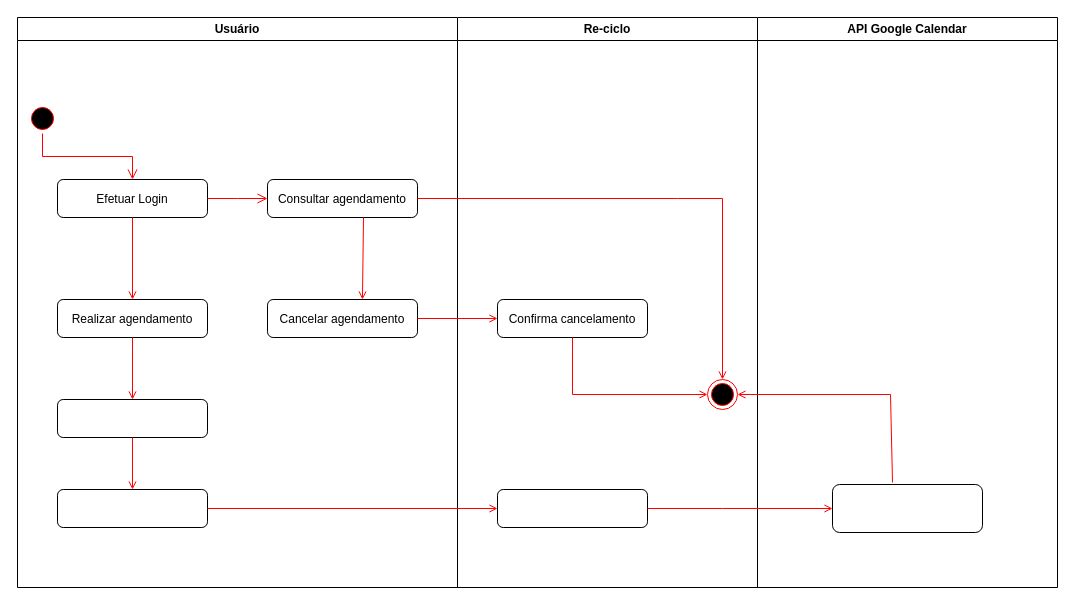
This 1075x605 diagram has some shape labels left out. Each missing label, with the centre of its shape:
Adiciona Agendamento à Conta Google: [907,508]
Confirma agendamento: [572,508]
Escolher data: [132,418]
Escolher horário: [132,508]
